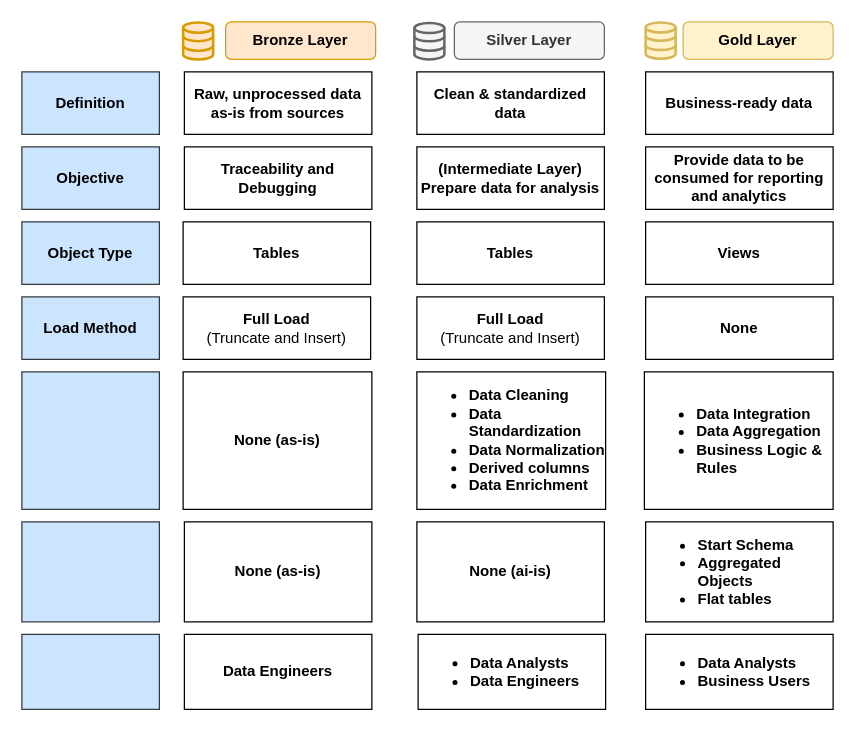
The diagram is 855 pixels wide and 733 high, and some of its shapes have lost their labels. Here are the shapes that lost their labels. From the top down, the centre of each, then its label:
[90,440]: Data Transformation
[90,571]: Data Modelling
[90,671]: Target Audience
